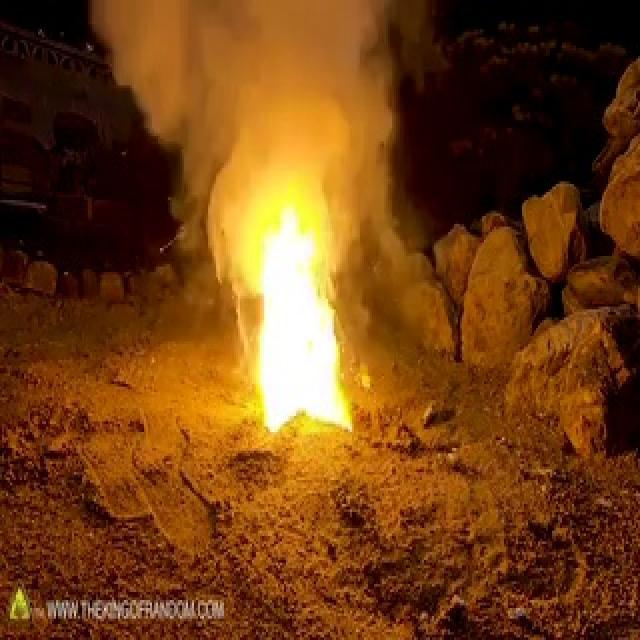Fire: (265, 232, 399, 411)
